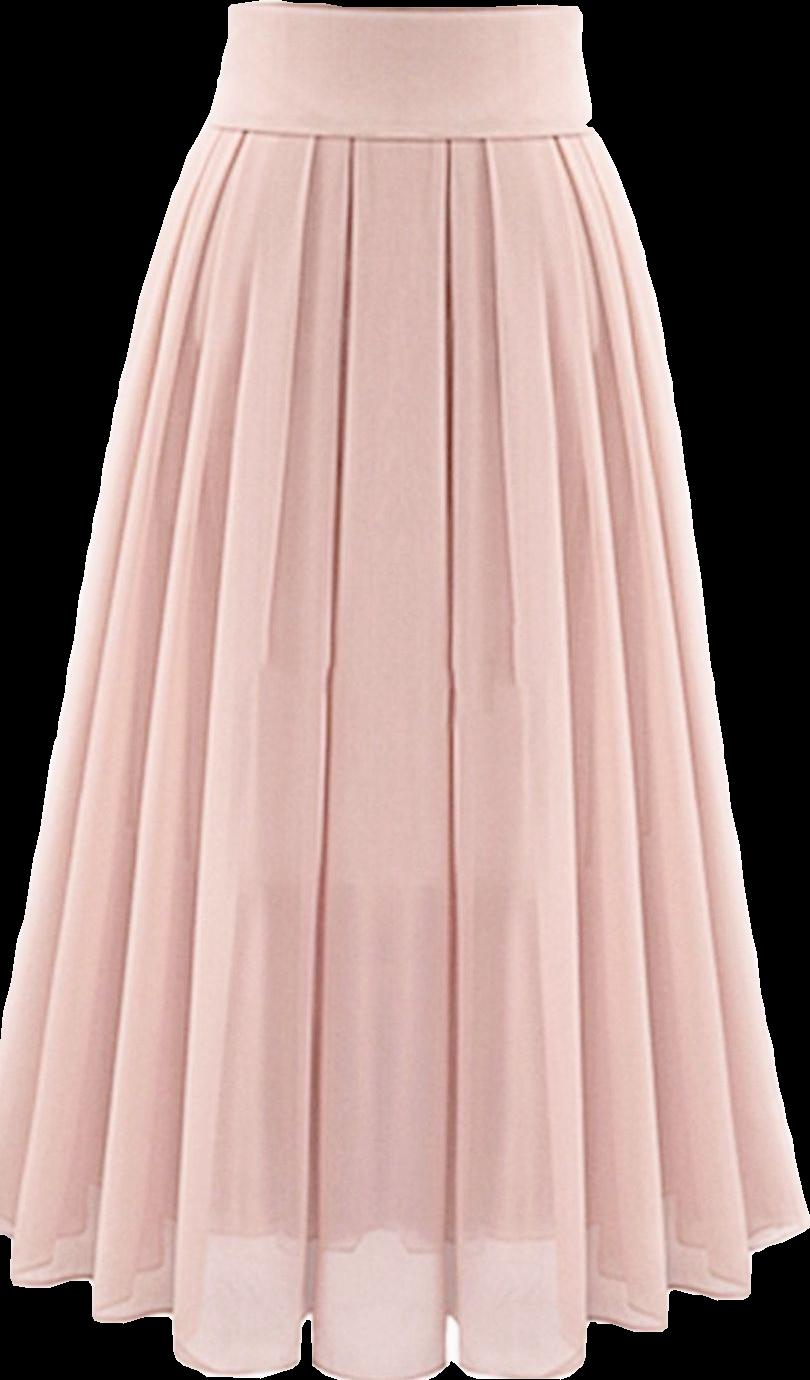Hemline: (0, 1218, 809, 1379)
Waistline: (194, 115, 605, 151), (222, 0, 582, 18)
